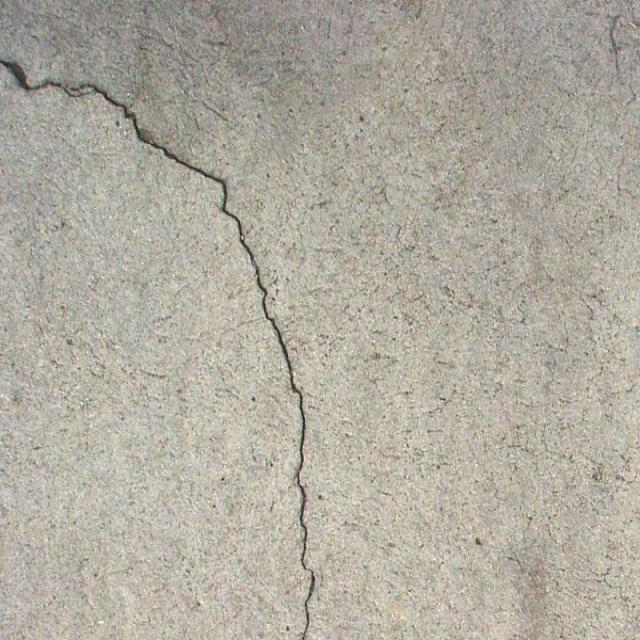diagonal crack: (0, 59, 315, 639)
vertical crack: (608, 9, 640, 102)
